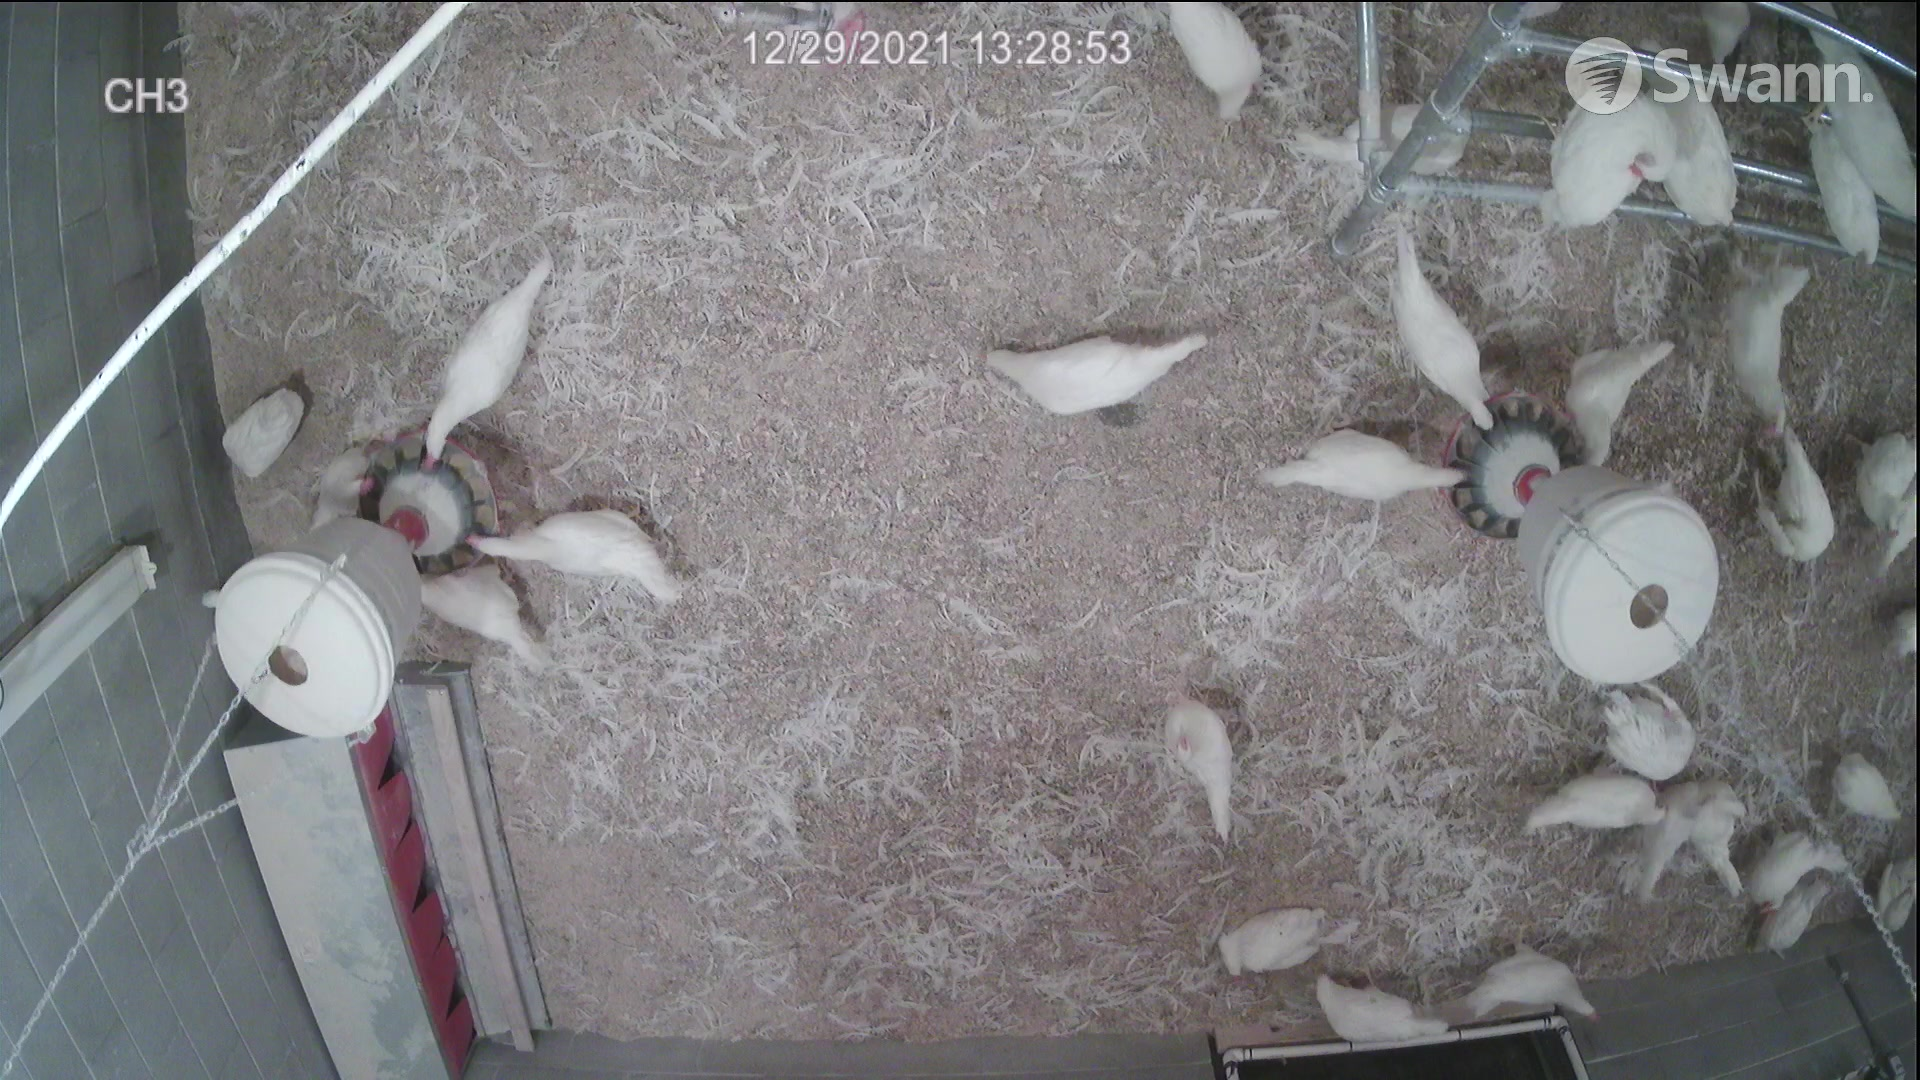Dust Bathing: (1217, 915, 1352, 982)
Feeding: (430, 251, 556, 469), (1385, 240, 1501, 429), (1247, 422, 1465, 509), (465, 505, 669, 596)
Foraging: (986, 328, 1233, 425), (218, 385, 316, 477)
Perching: (1626, 47, 1742, 240), (1549, 84, 1687, 243), (1817, 18, 1920, 215), (1792, 112, 1895, 284)
Preening: (1741, 429, 1854, 571), (1592, 680, 1698, 781)
